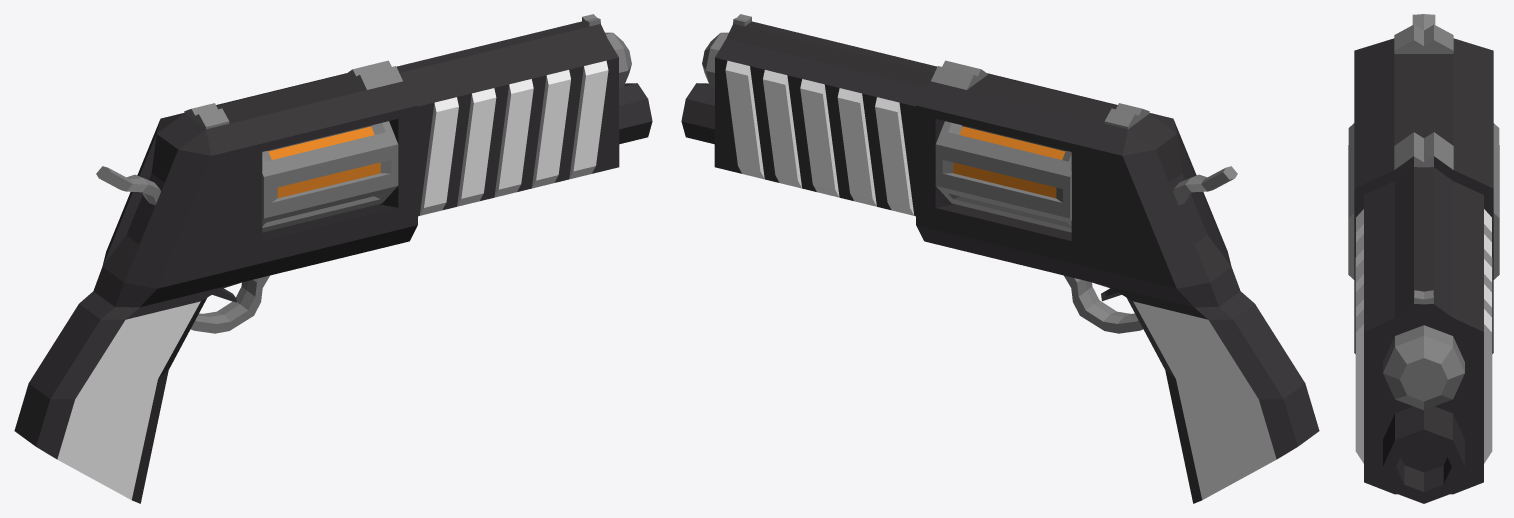
The model's file is Pistola.fbx.
3 views of the same model, side by side, from view 1: azimuth 30°, elevation 25°; view 2: azimuth 150°, elevation 25°; view 3: azimuth 270°, elevation 25° (orthographic). The views are drawn at different scales.
Visible parts, largest first — view 1: Cube.089; view 2: Cube.089; view 3: Cube.089.
Boxes of the visible parts, bbox=[...] form: Cube.089: bbox=[14, 14, 652, 503]; Cube.089: bbox=[681, 14, 1319, 503]; Cube.089: bbox=[1348, 14, 1499, 503].
Size of the model in its own units: 0.3472 by 0.1999 by 0.0543.
